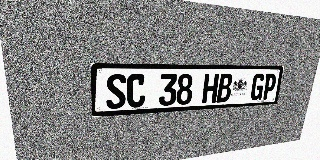3: (159, 74, 177, 106)
8: (176, 74, 194, 105)
B: (216, 74, 233, 103)
C: (127, 74, 146, 108)
G: (250, 74, 266, 100)
H: (202, 74, 219, 103)
P: (261, 73, 277, 100)
S: (106, 74, 126, 109)
